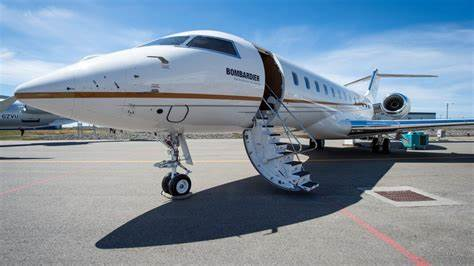Aeronef_commercial: (12, 23, 474, 206)
